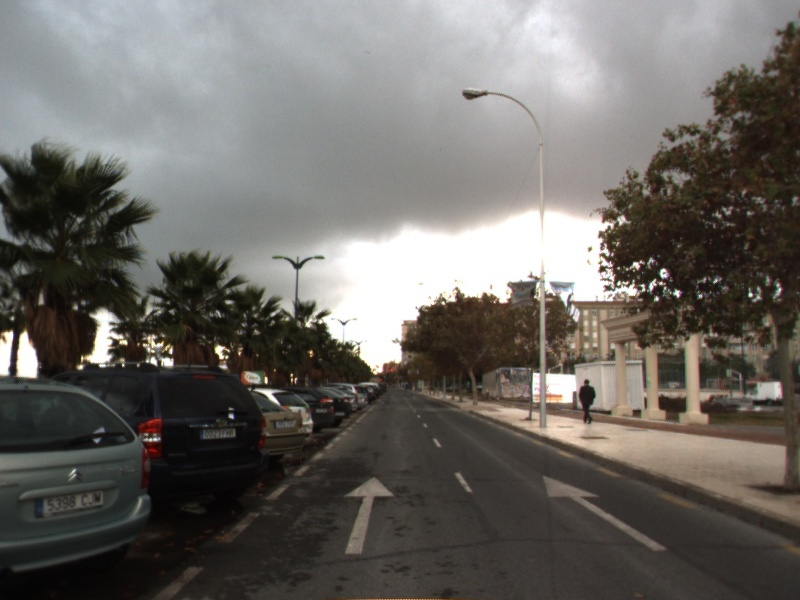STRAIGHT: (542, 474, 670, 552), (341, 475, 397, 556)
